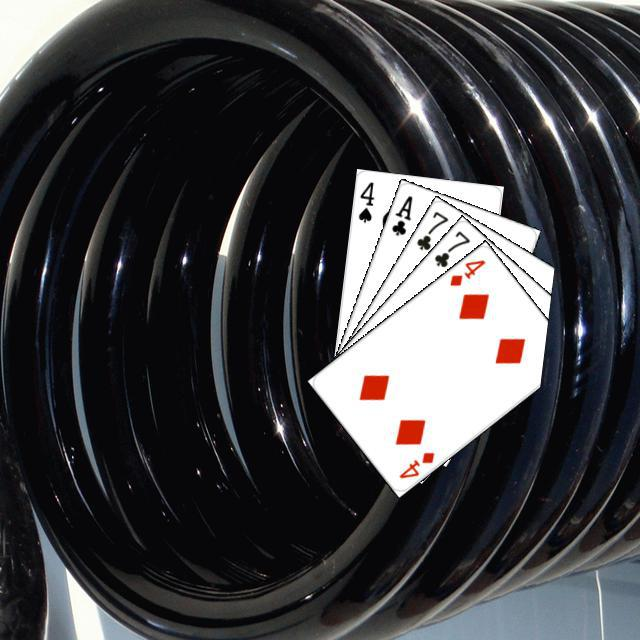4d: (394, 447, 437, 480), (445, 255, 487, 288)
4s: (353, 177, 376, 224)
7c: (429, 226, 472, 269), (411, 206, 450, 252)
Ac: (387, 190, 414, 238)
